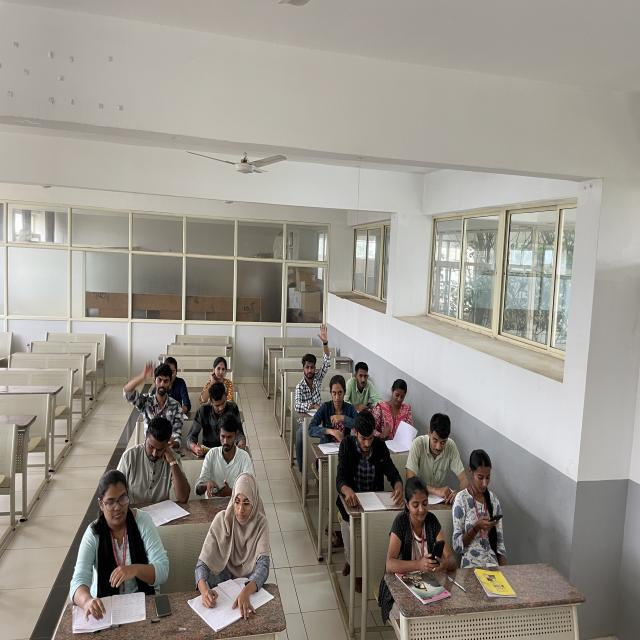Hand Rising: (290, 321, 335, 404)
Reading: (120, 411, 192, 516), (338, 416, 406, 510), (372, 375, 420, 442)
Using Phone: (384, 480, 454, 580), (456, 444, 520, 551), (202, 415, 250, 498), (346, 363, 382, 414)
Writing: (192, 468, 276, 620)
